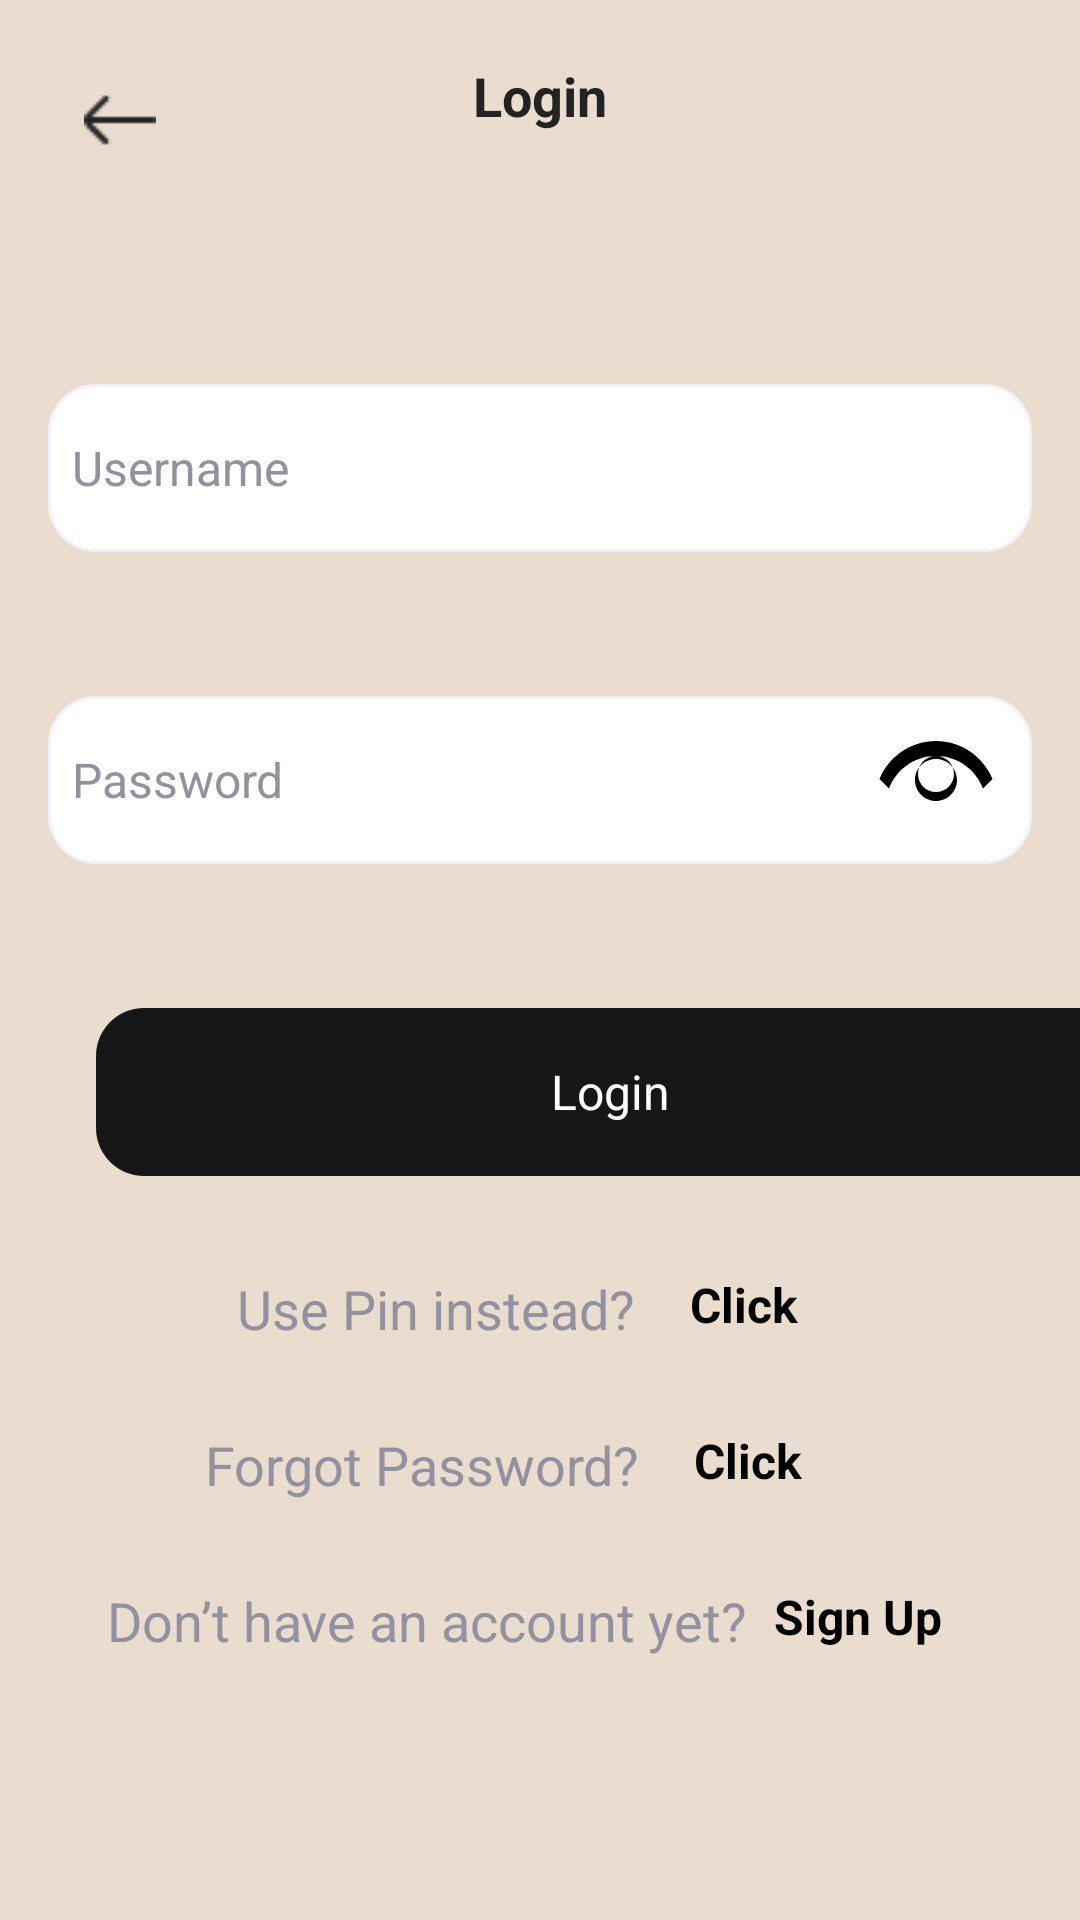

Screen size 1080 × 1920. Icon name, then its box in pixels as (x1=x1, y1=y1, x2=x2, y2=y2):
back arrow: (x1=84, y1=95, x2=156, y2=145)
eye: (x1=879, y1=741, x2=993, y2=801)
